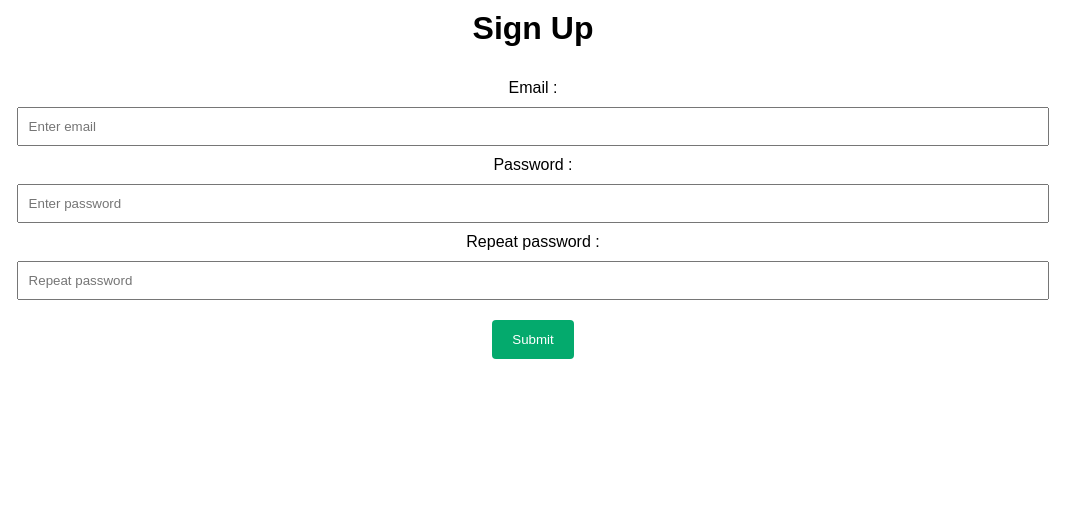
Test case: Signup › should display an error when password and repeat password are note the same
Type "abcefghijklmnop" into the password field with test id "password" at point(533, 203), box [17,184,1049,223]
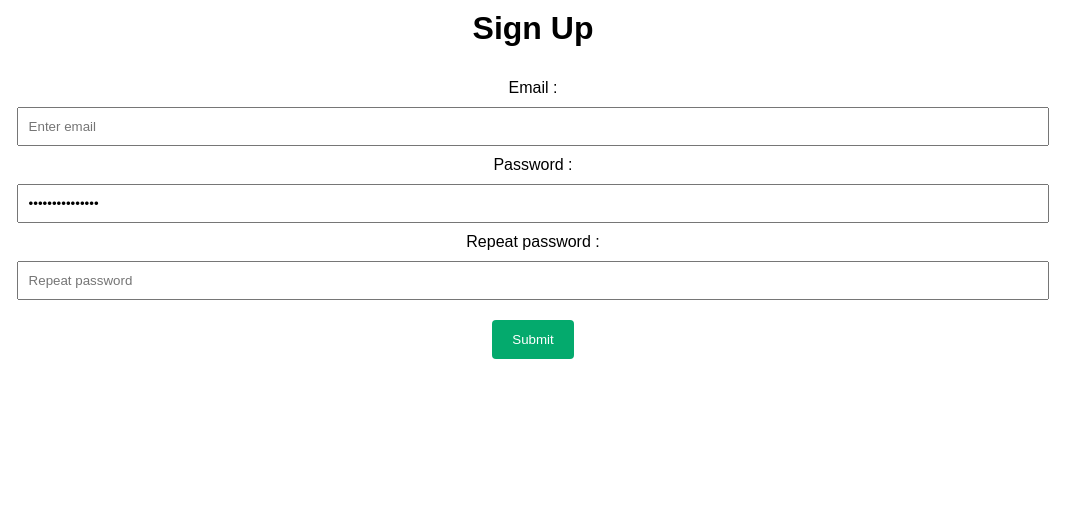
Type "abc" into the password field with test id "repeat-password" at point(533, 280), box [17,261,1049,300]
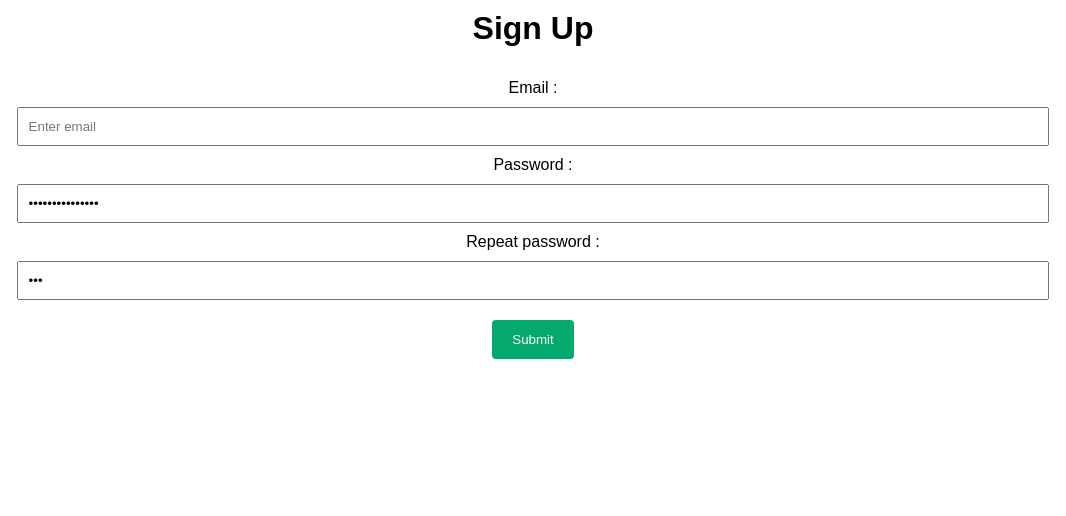
Click the button with test id "submit" at point(533, 339), box [492,320,574,359]
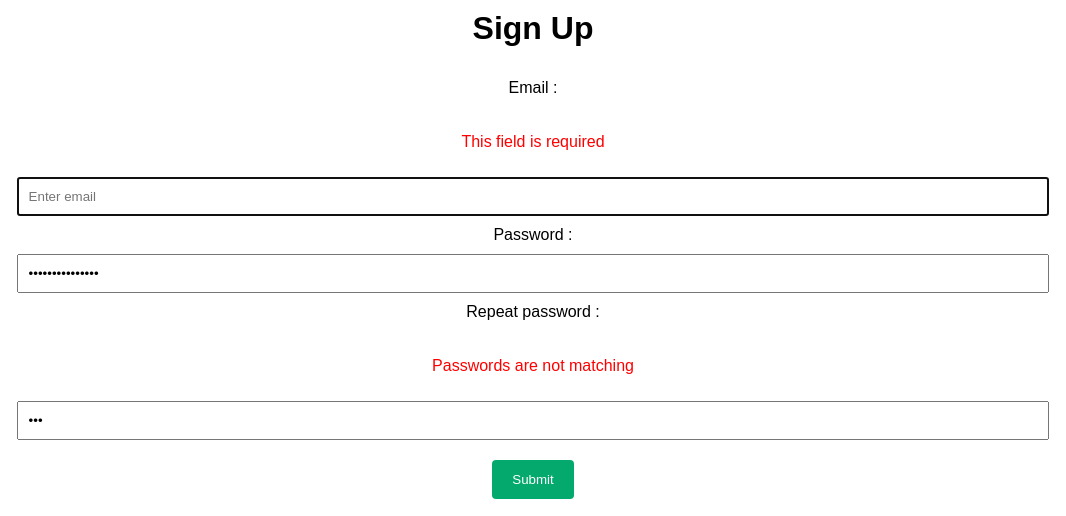
Now the text "Passwords are not matching" is shown, box [432,357,634,374]
